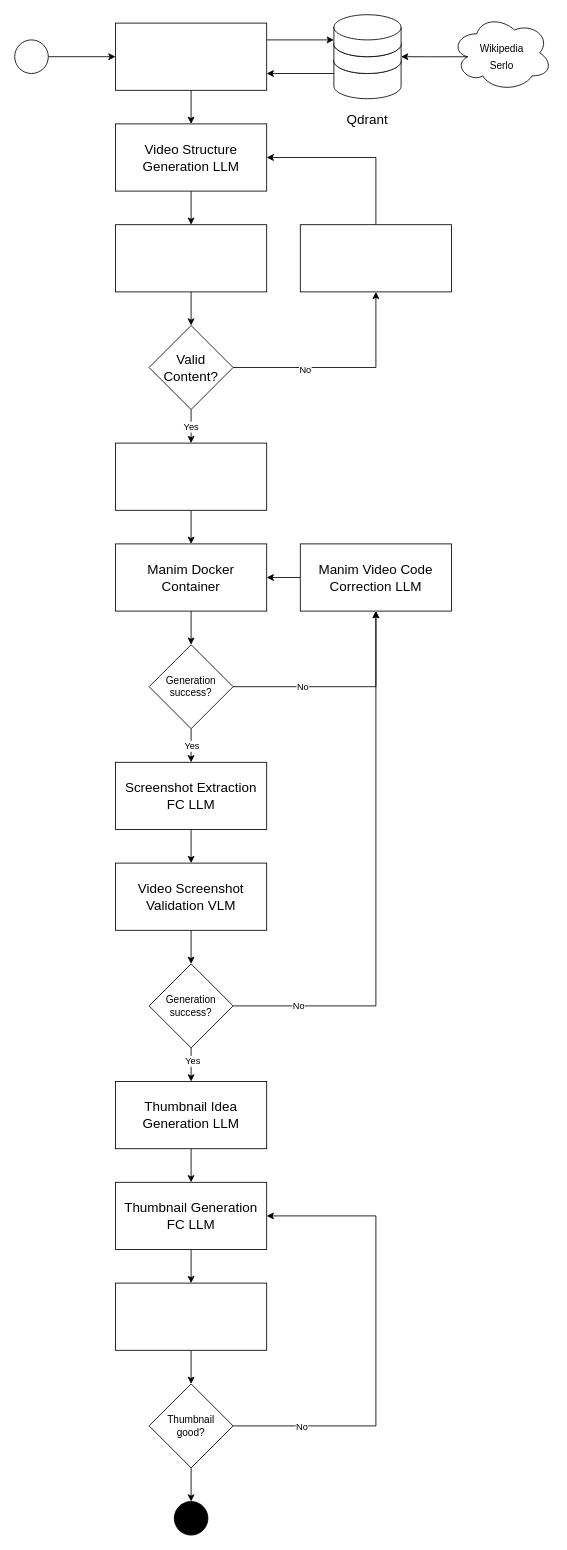
Some shapes in this 567 by 1550 pixel diagram are drawn without their labels. The centre of each missing label's shape, as x and y in pixels:
"Content Correction LLM" goes at point (375, 258).
"Content Validation LLM" goes at point (191, 258).
"Image Generation Model (Thumbnail)" goes at point (191, 1316).
"Information Retrieval (Math Content)" goes at point (191, 56).
"Manim Video Code LLM" goes at point (191, 476).
